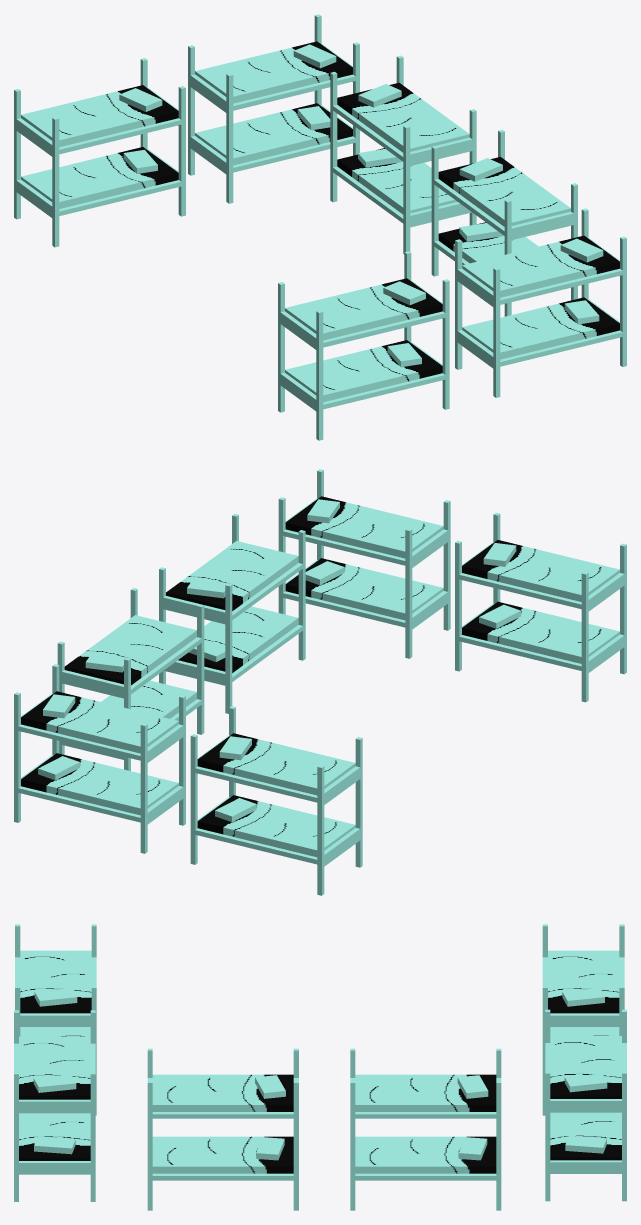
The model's file is bunk_beds.glb.
3 renders of one model, top to bottom at view 1: azimuth 30°, elevation 25°; view 2: azimuth 150°, elevation 25°; view 3: azimuth 270°, elevation 25°, orthographic.
Visible parts, largest first — view 1: bunkbeds; view 2: bunkbeds; view 3: bunkbeds.
Part boxes in pixels (x1,y1,x2,y2): bunkbeds: [14, 14, 626, 440]; bunkbeds: [14, 469, 626, 895]; bunkbeds: [14, 924, 626, 1210].
Size of the model in its own units: 5.87 by 2.2 by 9.57.
Materials: 1 (1 with a texture image).
